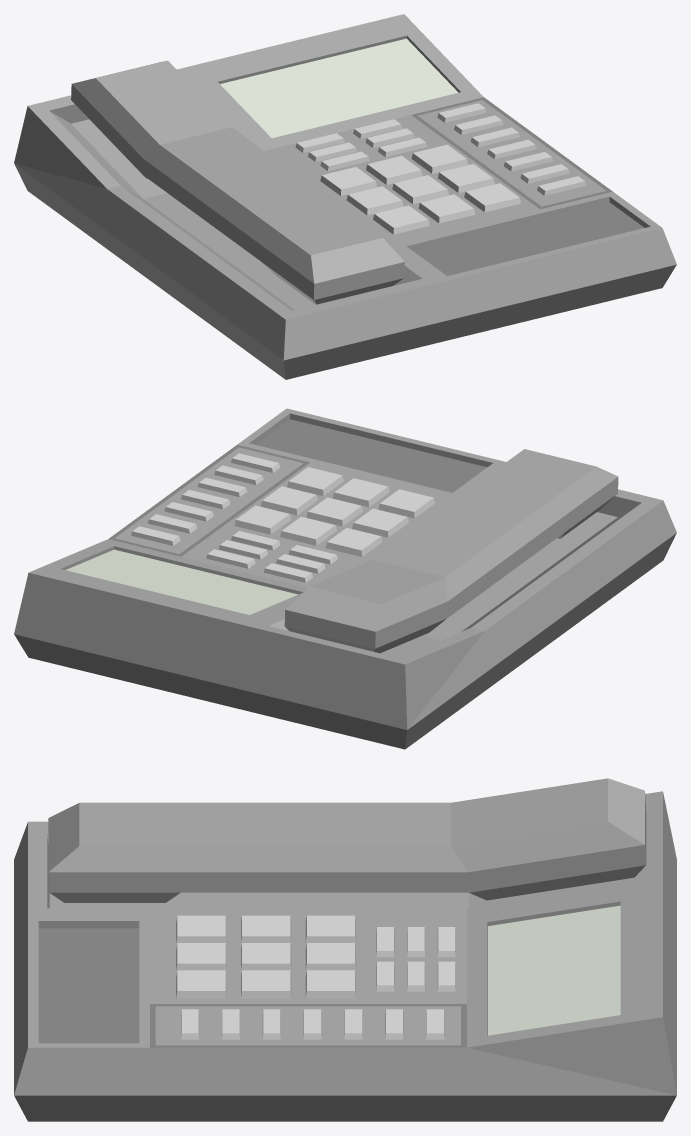
Rendered from TelephoneV1White.fbx.
3 renders of one model, top to bottom at view 1: azimuth 30°, elevation 25°; view 2: azimuth 150°, elevation 25°; view 3: azimuth 270°, elevation 25°, orthographic. The views are drawn at different scales.
Parts seen in each view (by area): view 1: TelephoneV1White; view 2: TelephoneV1White; view 3: TelephoneV1White.
Boxes of the visible parts, x1,y1,x2,y2 form: TelephoneV1White: [14, 14, 676, 379]; TelephoneV1White: [14, 408, 676, 749]; TelephoneV1White: [14, 778, 676, 1121].
Size of the model in its own units: 13.66 by 3.91 by 16.23.
